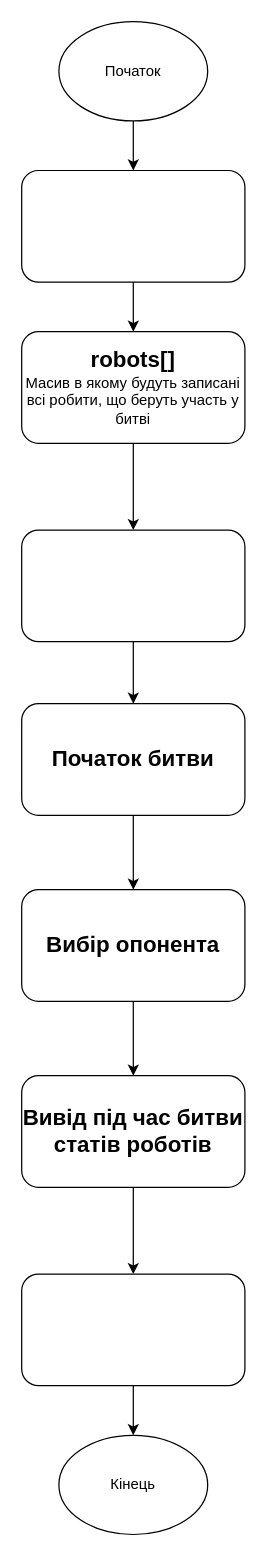
This 267x1556 diagram has some shape labels left out. The centre of each missing label's shape, as x and y in pixels:
Визначення переможця: the point at 132,1329
Клас ARENA: the point at 132,225
Роботи добавляються до класу: the point at 132,585
